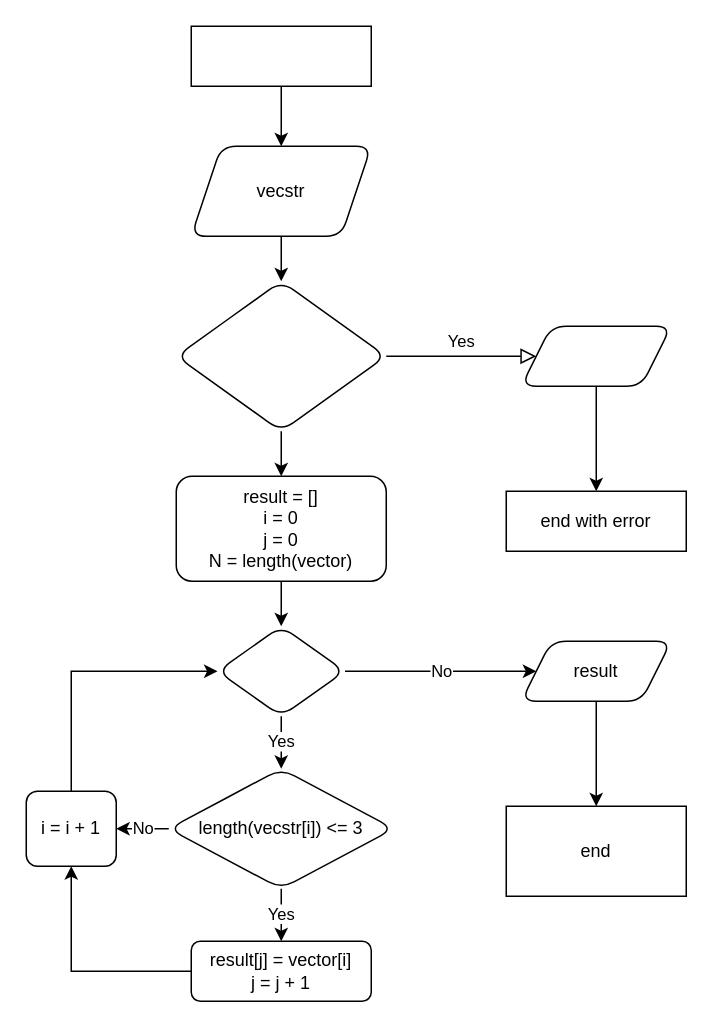
Image size: 713x1028. Some labels were removed from this diagram. Each missing label, with the centre of its shape:
"i <= N" goes at point (280, 670).
"length(vecstr) == 0" goes at point (280, 355).
"start" goes at point (280, 55).
"throw error" goes at point (595, 355).
